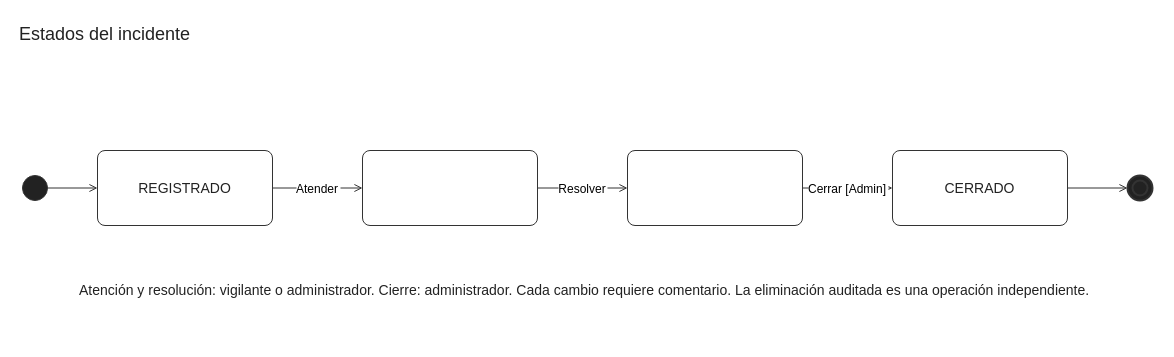
Image size: 1174x357. Some labels were removed from this diagram. Each missing label, with the centre of its shape:
"EN_PROCESO" goes at pixel 450 188.
"RESUELTO" goes at pixel 714 188.
